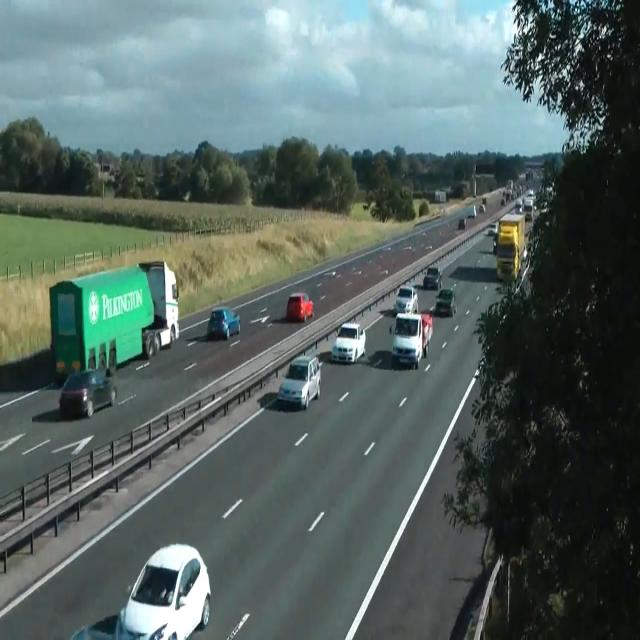bus: (58, 367, 116, 419), (206, 306, 240, 339), (286, 292, 314, 322), (422, 266, 442, 290), (468, 204, 476, 218), (522, 243, 528, 261), (458, 217, 466, 229), (493, 233, 497, 255), (479, 204, 485, 212)
jeep: (115, 542, 211, 638), (277, 354, 321, 410), (389, 311, 429, 369), (331, 321, 365, 363), (392, 284, 418, 314), (433, 286, 457, 316)
minibus: (49, 259, 179, 385), (138, 258, 180, 356), (493, 212, 525, 282), (434, 189, 446, 203)
